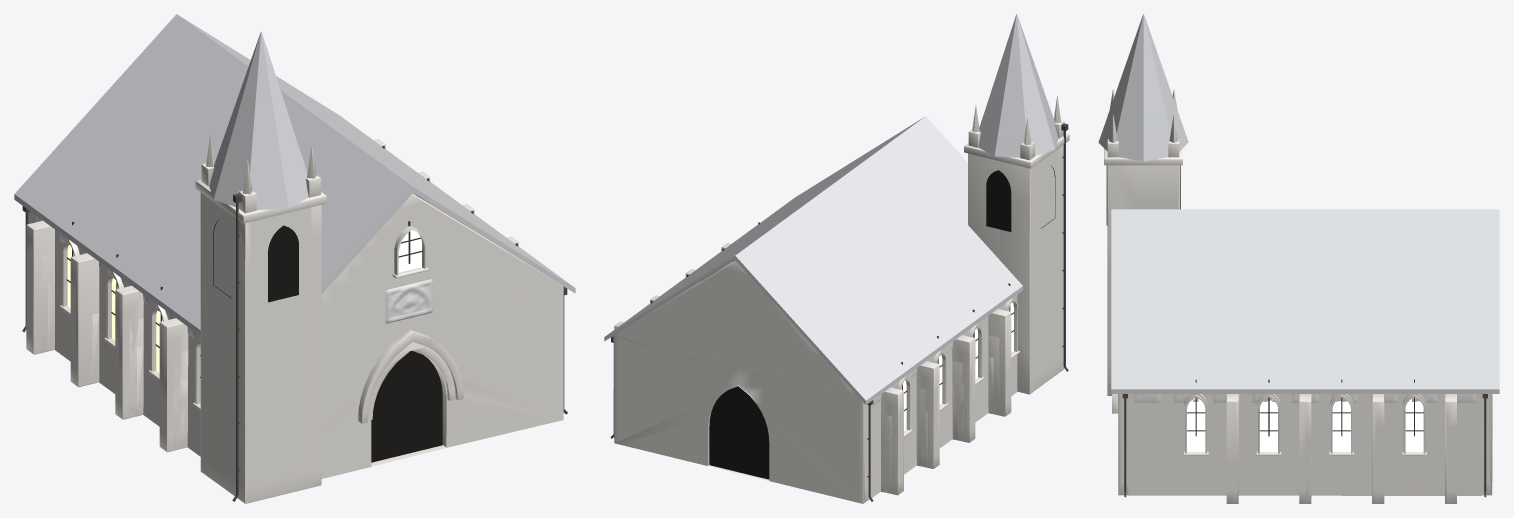
Rendered from redwood-chapel.glb.
3 views of the same model, side by side, from view 1: azimuth 30°, elevation 25°; view 2: azimuth 150°, elevation 25°; view 3: azimuth 270°, elevation 25° (orthographic). The views are drawn at different scales.
Visible parts, largest first — view 1: stjames_wall, stjames_roof, stjames_shadow, stjames_trim, merged_stjames_relief_gothic-tympanum, detail_stjames_pipe, stjames_glass; view 2: stjames_wall, stjames_roof, stjames_shadow, stjames_trim, detail_stjames_pipe, stjames_glass; view 3: stjames_roof, stjames_wall, stjames_glass, stjames_trim, merged_stjames_relief_stjames-band, detail_stjames_pipe, detail_stjames_frame.
Boxes of the visible parts, x1,y1,x2,y2 form: stjames_wall: (26,139,563,503); stjames_roof: (14,14,575,335); stjames_shadow: (213,220,442,462); stjames_trim: (59,133,463,423); merged_stjames_relief_gothic-tympanum: (385,279,432,323); detail_stjames_pipe: (22,193,567,501); stjames_glass: (67,230,421,372); stjames_wall: (613,145,1064,503); stjames_roof: (604,14,1058,404); stjames_shadow: (709,166,1055,479); stjames_trim: (897,96,1069,437); detail_stjames_pipe: (610,123,1068,501); stjames_glass: (901,302,1013,431); stjames_roof: (1098,14,1499,393); stjames_wall: (1107,165,1492,503); stjames_glass: (1187,398,1423,451); stjames_trim: (1104,89,1426,455); merged_stjames_relief_stjames-band: (1134,394,1476,402); detail_stjames_pipe: (1122,394,1487,497); detail_stjames_frame: (1187,379,1423,436).
Size of the model in its own units: 16.68 by 20.04 by 19.83.
